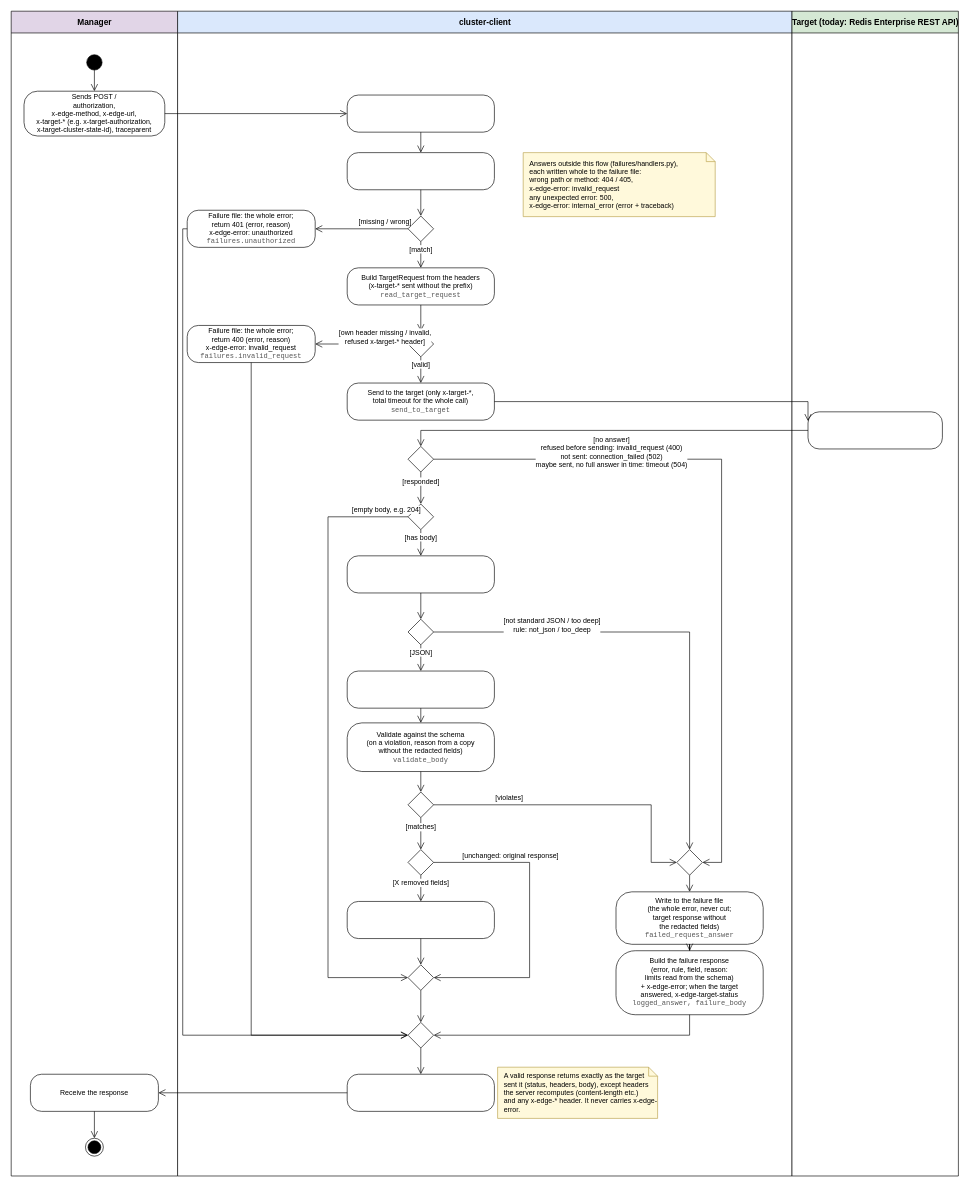
The diagram is 970 pixels wide and 1187 high, and some of its shapes have lost their labels. Each missing label, with the centre of its shape:
Check the manager's credentials (Authorization) require_access → check_access: the point at 420,171
Continue the manager's trace FastAPIInstrumentor: the point at 420,113
Decode the body as standard JSON build_response: the point at 420,574
Handle the call and respond: the point at 874,430
Re-encode the body build_response: the point at 420,920
Return status + headers + body + traceresponse target_endpoint: the point at 420,1092
X: remove ignorable fields remove_fields: the point at 420,689
